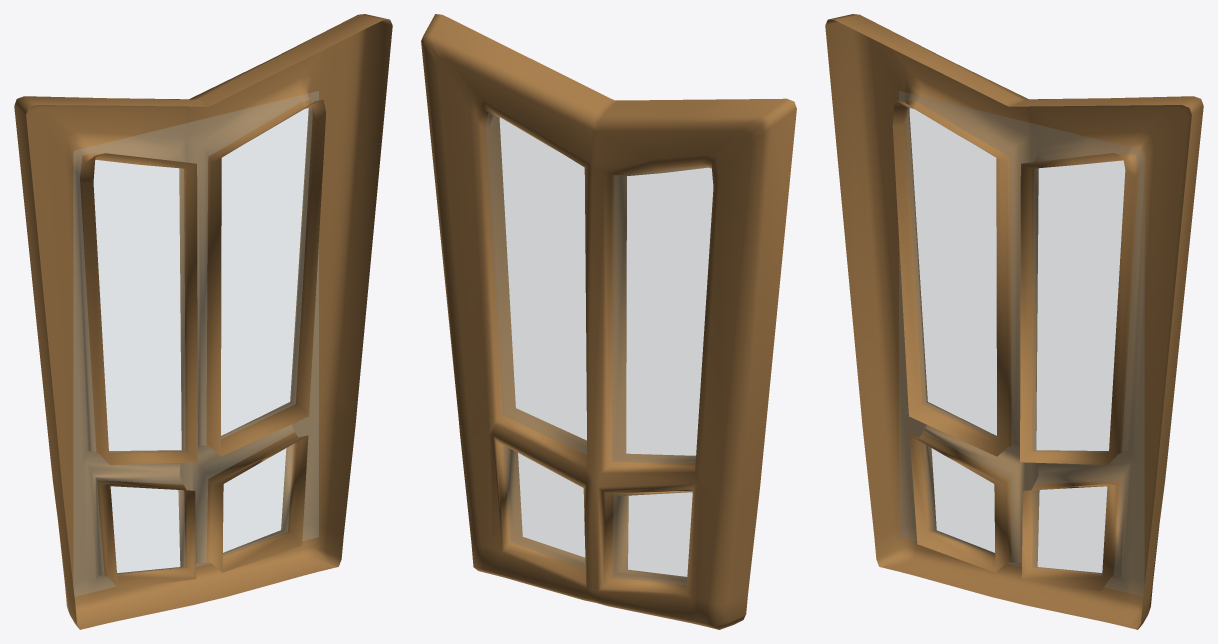
Rendered from props_window_6.fbx.
3 renders of one model, left to right at view 1: azimuth 30°, elevation 25°; view 2: azimuth 150°, elevation 25°; view 3: azimuth 330°, elevation 25°, orthographic.
Parts seen in each view (by area): view 1: Props_window6; view 2: Props_window6; view 3: Props_window6.
Part boxes in pixels (bbox=[...]): Props_window6: bbox=[14, 14, 392, 629]; Props_window6: bbox=[421, 14, 796, 629]; Props_window6: bbox=[825, 14, 1203, 629].
Bounding box in the file's own units: 2.13 × 0.2289 × 2.99.
